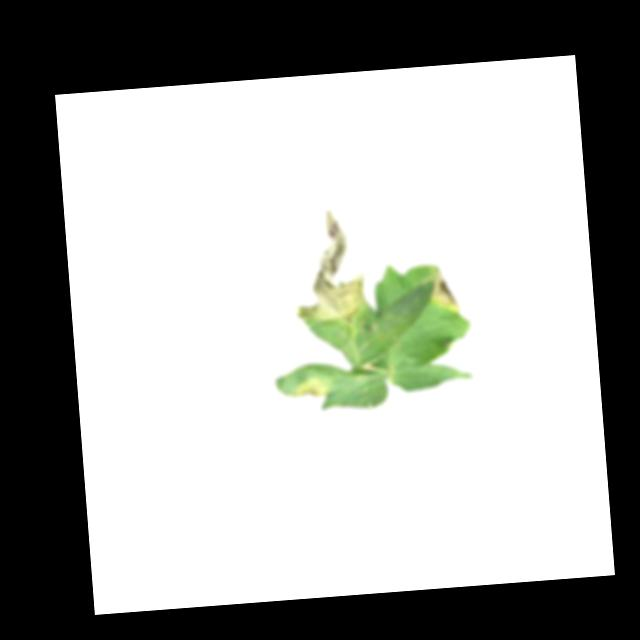Late_blight: (287, 205, 371, 330), (426, 262, 461, 312), (288, 374, 336, 405)
